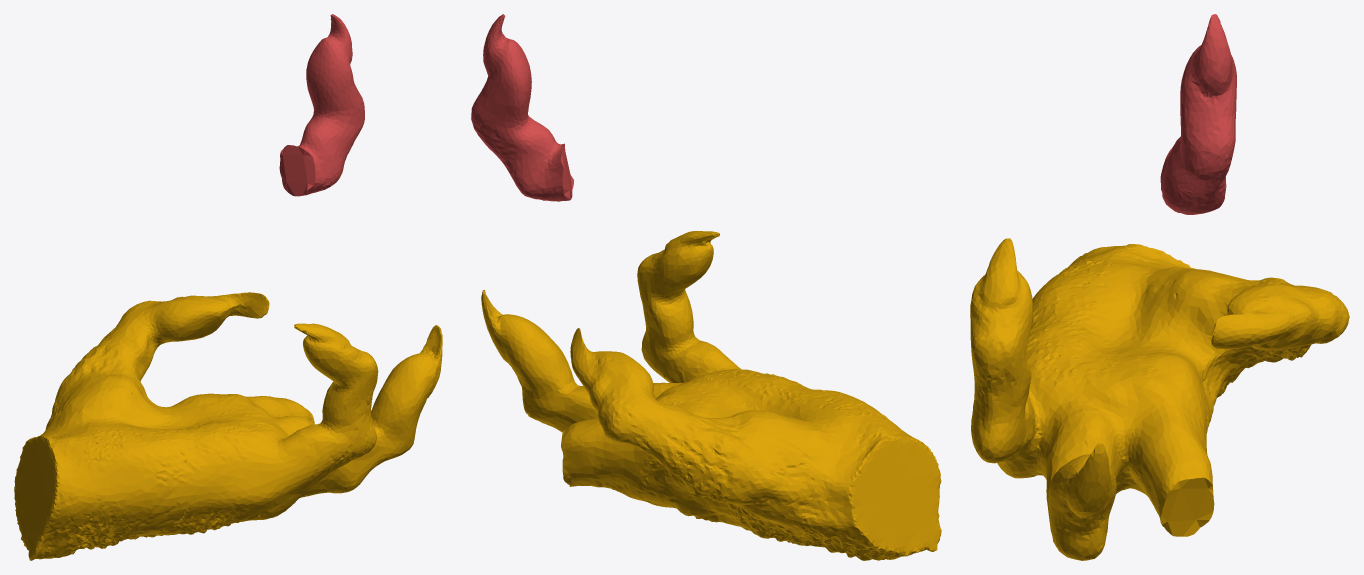
The model's file is mode_1_2pcs_transformed.glb.
3 views of the same model, side by side, from view 1: azimuth 30°, elevation 25°; view 2: azimuth 150°, elevation 25°; view 3: azimuth 270°, elevation 25° (orthographic). The views are drawn at different scales.
Parts seen in each view (by area): view 1: piece_0.obj, piece_1.obj; view 2: piece_0.obj, piece_1.obj; view 3: piece_0.obj, piece_1.obj.
Part boxes in pixels (x1,y1,x2,y2): piece_0.obj: [14, 292, 442, 560]; piece_1.obj: [279, 14, 364, 196]; piece_0.obj: [481, 231, 941, 560]; piece_1.obj: [471, 14, 573, 201]; piece_0.obj: [970, 238, 1349, 560]; piece_1.obj: [1160, 14, 1236, 214].
Size of the model in its own units: 1 by 1.02 by 0.604.
